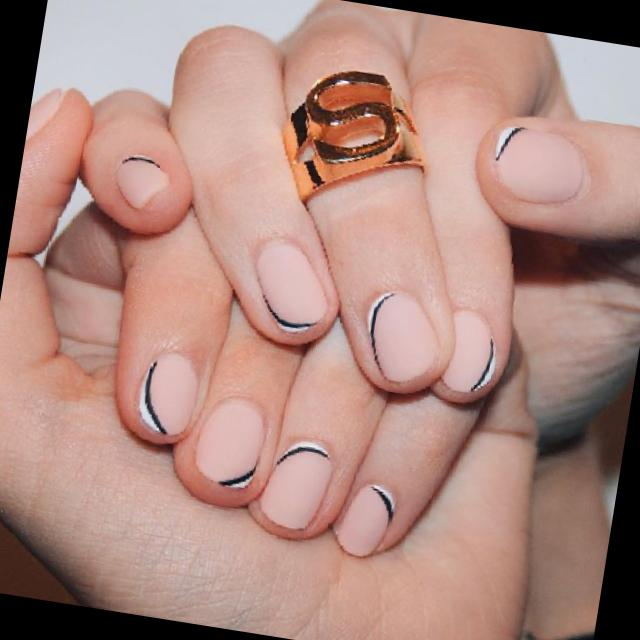Nail: (495, 127, 583, 203), (256, 240, 327, 331), (367, 291, 438, 381), (259, 441, 332, 528), (195, 398, 264, 487), (138, 352, 198, 435), (441, 309, 496, 392), (336, 484, 393, 555), (114, 156, 169, 208), (25, 88, 64, 140)
